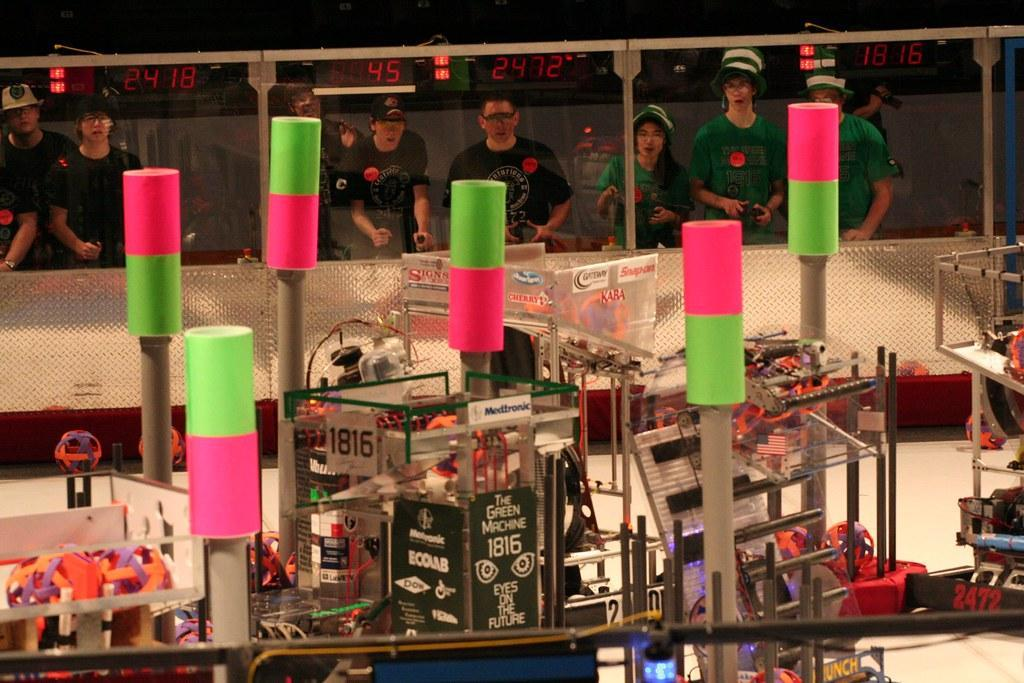robot: (387, 236, 684, 647), (262, 362, 590, 678), (623, 319, 896, 683), (897, 215, 1024, 638)
